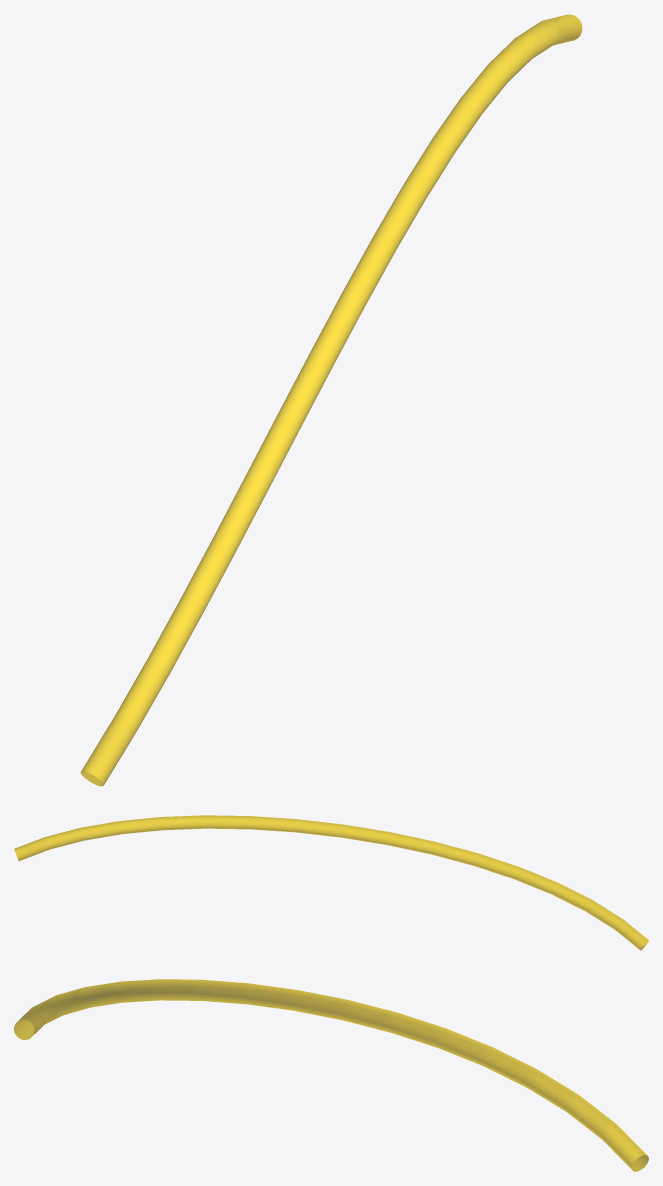
File: Event_100608114_track_100.fbx
3 views of the same model, one above another, from view 1: azimuth 30°, elevation 25°; view 2: azimuth 150°, elevation 25°; view 3: azimuth 270°, elevation 25° (orthographic). The views are drawn at different scales.
Parts seen in each view (by area): view 1: Model; view 2: Model; view 3: Model.
Boxes of the visible parts, <box> form: Model: <box>80,14,582,786</box>; Model: <box>14,815,648,950</box>; Model: <box>14,979,648,1171</box>.
Bounding box in the file's own units: 1.52 × 0.5191 × 1.2.
